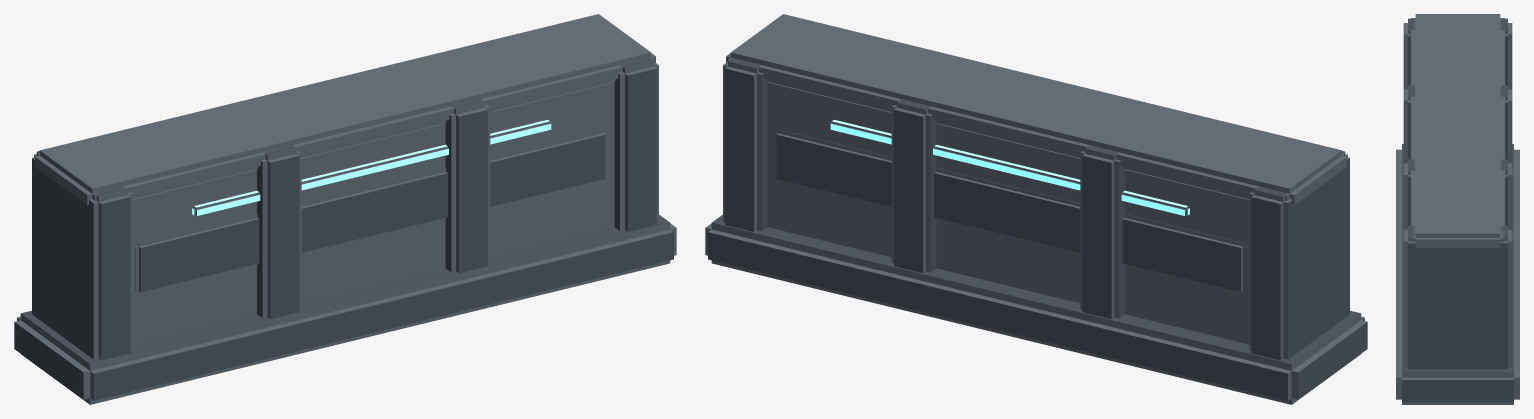
The model's file is SM_CoastBarrier.glb.
3 views of the same model, side by side, from view 1: azimuth 30°, elevation 25°; view 2: azimuth 150°, elevation 25°; view 3: azimuth 270°, elevation 25° (orthographic). The views are drawn at different scales.
Visible parts, largest first — view 1: SM_CoastBarrier; view 2: SM_CoastBarrier; view 3: SM_CoastBarrier.
Part boxes in pixels (bbox=[...]): SM_CoastBarrier: bbox=[14, 14, 676, 404]; SM_CoastBarrier: bbox=[705, 14, 1367, 404]; SM_CoastBarrier: bbox=[1396, 14, 1519, 404].
Bounding box in the file's own units: 3.65 × 1.22 × 0.82.
